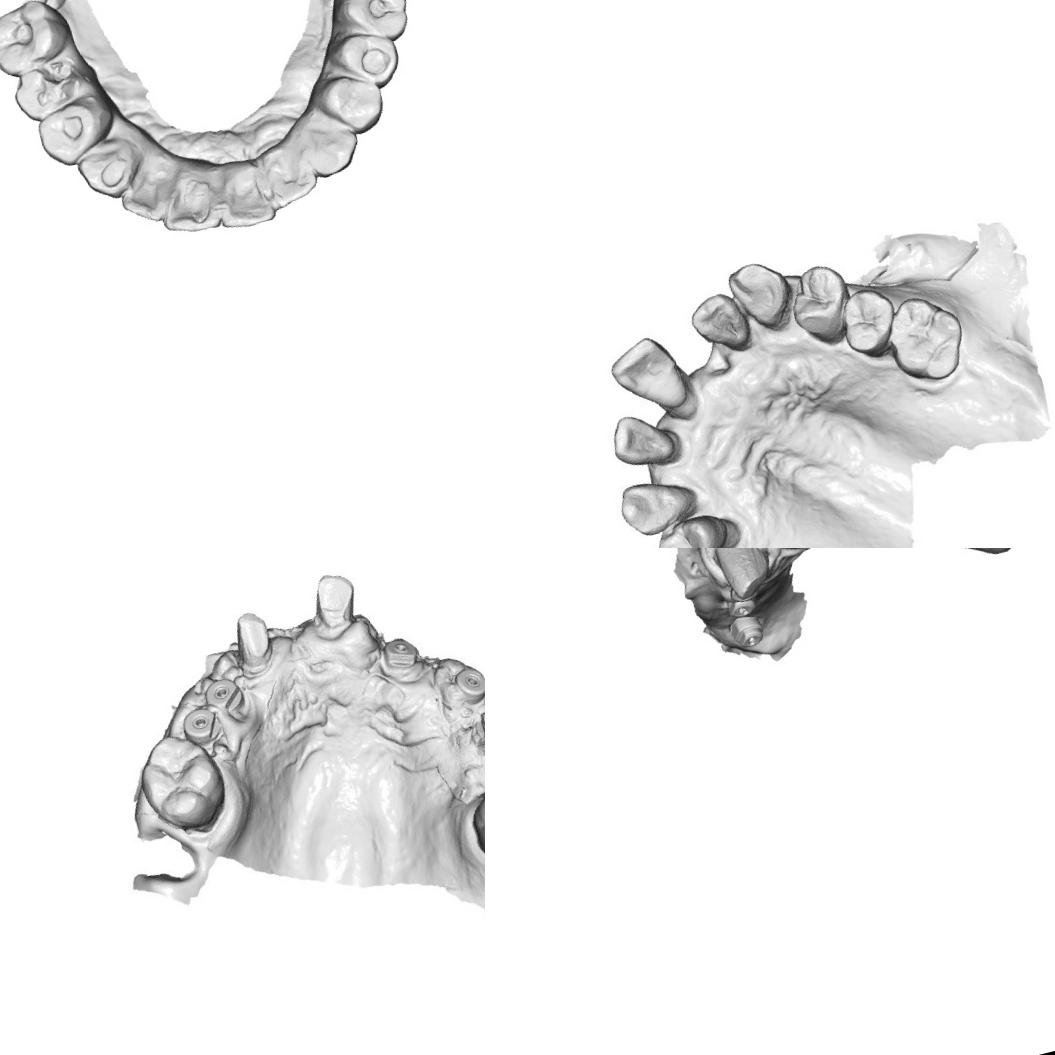canine: (70, 132, 150, 207), (295, 103, 367, 182), (723, 255, 793, 336), (614, 471, 694, 539)
crown: (301, 556, 364, 639), (224, 596, 284, 680), (701, 548, 779, 607)
implant: (443, 655, 485, 706), (180, 701, 226, 747), (380, 631, 419, 671), (206, 672, 243, 712), (472, 701, 485, 751)
implant_minus: (724, 610, 768, 652)
incisor: (602, 326, 694, 420), (150, 154, 226, 240), (249, 134, 325, 214), (204, 156, 280, 234), (606, 405, 678, 478), (113, 156, 183, 226), (688, 286, 754, 355)
molar: (133, 727, 232, 837), (876, 288, 968, 390), (3, 45, 102, 128), (0, 0, 79, 80), (324, 0, 417, 54), (462, 769, 485, 865)
premolar: (29, 87, 126, 173), (307, 62, 390, 144), (322, 19, 408, 97), (830, 280, 902, 361), (788, 262, 856, 346), (644, 511, 729, 548)
